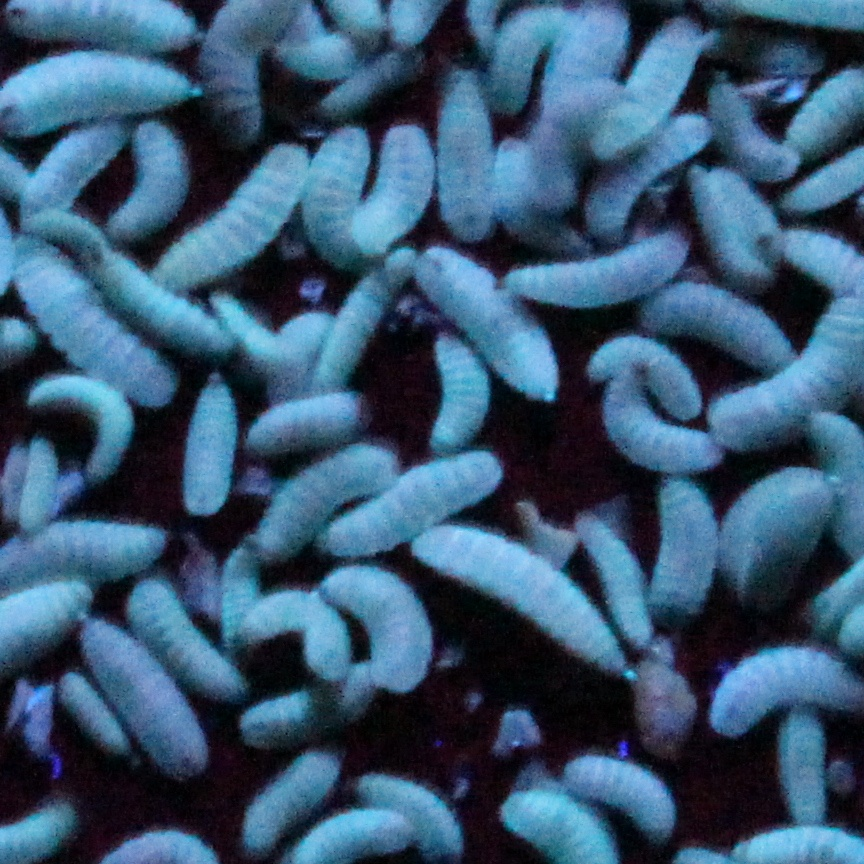larve: (426, 529, 632, 682), (23, 240, 174, 413), (414, 246, 561, 399), (714, 297, 863, 440), (322, 456, 496, 552), (92, 622, 199, 774), (179, 143, 299, 277), (720, 460, 832, 599), (598, 15, 702, 160), (590, 125, 716, 238), (512, 229, 686, 309), (256, 451, 384, 558), (85, 238, 212, 344), (131, 581, 240, 695), (588, 321, 704, 427), (20, 125, 136, 222), (649, 470, 720, 621), (23, 376, 130, 476), (635, 299, 796, 364), (606, 378, 718, 468), (358, 767, 461, 856), (439, 74, 492, 240), (698, 178, 773, 295), (694, 93, 800, 174), (235, 672, 371, 735), (573, 529, 651, 638), (365, 119, 433, 244), (113, 122, 187, 236), (566, 754, 676, 830), (486, 7, 561, 113), (253, 590, 346, 671), (313, 131, 369, 259), (251, 754, 326, 846), (249, 400, 367, 454), (185, 385, 230, 520), (222, 305, 300, 380), (426, 350, 486, 442), (322, 280, 369, 382), (61, 676, 121, 754), (333, 56, 408, 115), (782, 718, 826, 818), (12, 441, 56, 530), (228, 551, 262, 644)
